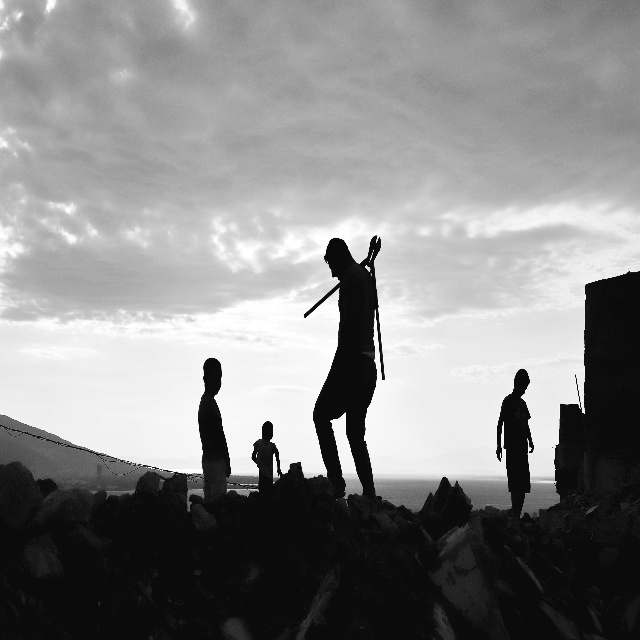Sin_guantes: (496, 445, 503, 463), (529, 440, 534, 454), (277, 467, 283, 477)
